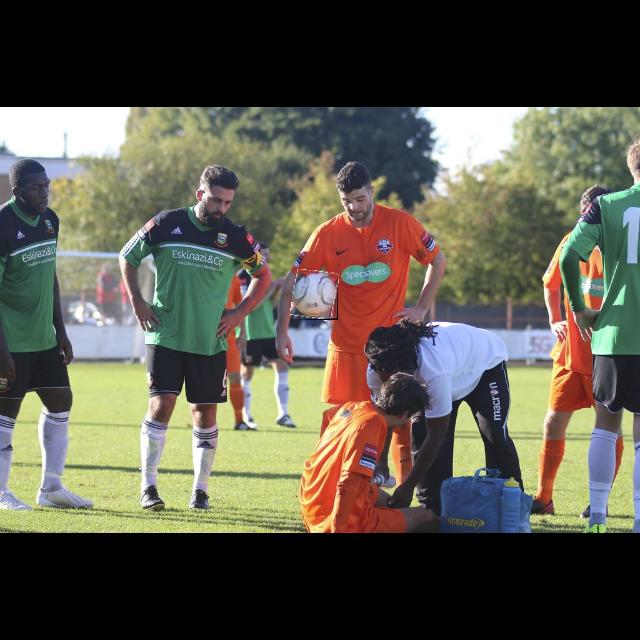Football: (292, 270, 338, 320)
